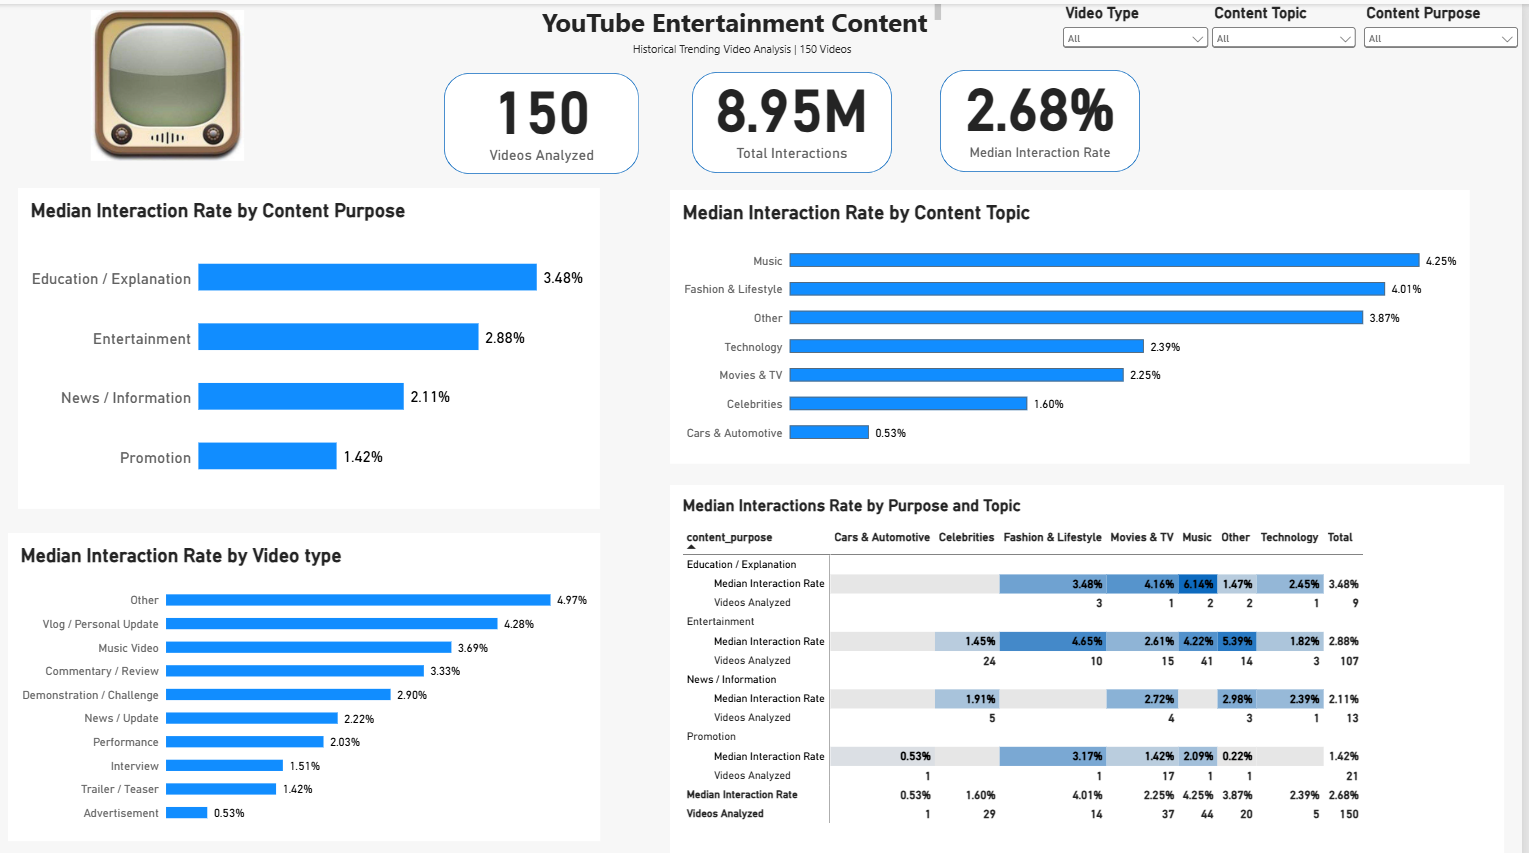

The dashboard page shown, as its layout file describes it:
{"tool":"powerbi","page":{"name":"Page 1","canvas":[1920,1080],"ordinal":0},"visuals":[{"type":"shape","box":[409.7,59,260,139.1],"z":0},{"type":"shape","box":[698.5,59,260,139.1],"z":1000},{"type":"shape","box":[994.8,59,260,139.1],"z":2000},{"type":"cardVisual","fields":{"Data":["youtube_engagement_analysis.Videos Analyzed"]},"box":[443,68,192,120.9],"z":3000},{"type":"cardVisual","fields":{"Data":["youtube_engagement_analysis.Total Interactions"]},"box":[715.1,68,225.3,120.9],"z":4000},{"type":"cardVisual","fields":{"Data":["youtube_engagement_analysis.Median Interaction Rate"]},"box":[1011.4,69.5,226.8,117.9],"z":5000},{"type":"shape","box":[12.1,306.9,994.8,772.5],"z":6000},{"type":"clusteredBarChart","title":"Median Interaction Rate by Video type","fields":{"Category":["youtube_engagement_analysis.video_type"],"Y":["youtube_engagement_analysis.Median Interaction Rate"]},"box":[104.3,343.2,810.3,707.5],"z":7000},{"type":"shape","box":[1350,0,520.1,450.5],"z":8000},{"type":"clusteredBarChart","title":"Median Interaction Rate by Content Purpose","fields":{"Category":["youtube_engagement_analysis.content_purpose"],"Y":["youtube_engagement_analysis.Median Interaction Rate"]},"box":[1406,31.7,406.7,385.5],"z":9000},{"type":"shape","box":[1076.4,467.1,816.4,583.6],"z":10000},{"type":"clusteredBarChart","title":"Median Interaction Rate by Content Topic","fields":{"Category":["youtube_engagement_analysis.content_topic"],"Y":["youtube_engagement_analysis.Median Interaction Rate"]},"box":[1147.5,494.4,672.8,527.6],"z":11000}]}

Visuals, with their boxes in screenshot pixels (x1, y1, x2, y2), scaled from the page's 1920x1080 canvas onto the 1529x853 screenshot:
shape: 326 47 533 156
shape: 556 47 763 156
shape: 792 47 999 156
cardVisual - youtube_engagement_analysis.Videos Analyzed: 353 54 506 149
cardVisual - youtube_engagement_analysis.Total Interactions: 569 54 749 149
cardVisual - youtube_engagement_analysis.Median Interaction Rate: 805 55 986 148
shape: 10 242 802 852
"Median Interaction Rate by Video type" clusteredBarChart: 83 271 728 830
shape: 1075 0 1489 356
"Median Interaction Rate by Content Purpose" clusteredBarChart: 1120 25 1444 330
shape: 857 369 1507 830
"Median Interaction Rate by Content Topic" clusteredBarChart: 914 390 1450 807
